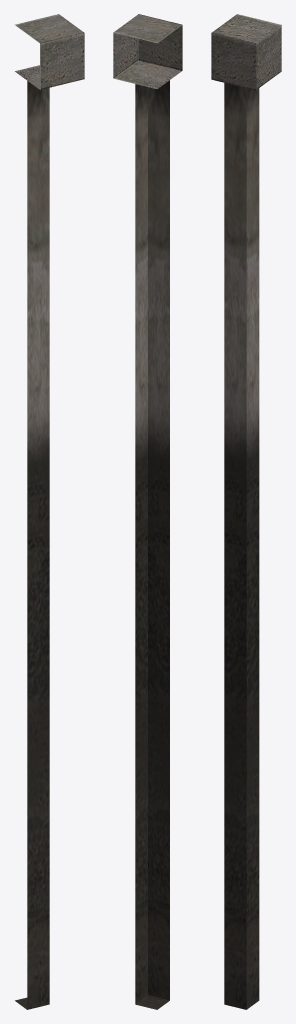
The model's file is Dockslb3.glb.
The picture shows the model from 3 angles, left to right: view 1: azimuth 30°, elevation 25°; view 2: azimuth 150°, elevation 25°; view 3: azimuth 330°, elevation 25°; orthographic projection.
Visible parts, largest first — view 1: _Dockslb3; view 2: _Dockslb3; view 3: _Dockslb3.
Boxes of the visible parts, x1,y1,x2,y2 form: _Dockslb3: (14, 14, 84, 1009); _Dockslb3: (113, 14, 182, 1009); _Dockslb3: (211, 14, 281, 1009).
Bounding box in the file's own units: 1 × 21 × 1.
Materials: 1 (1 with a texture image).
